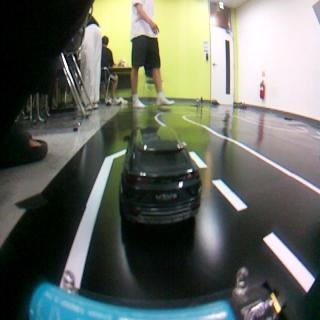car: (120, 126, 202, 230)
